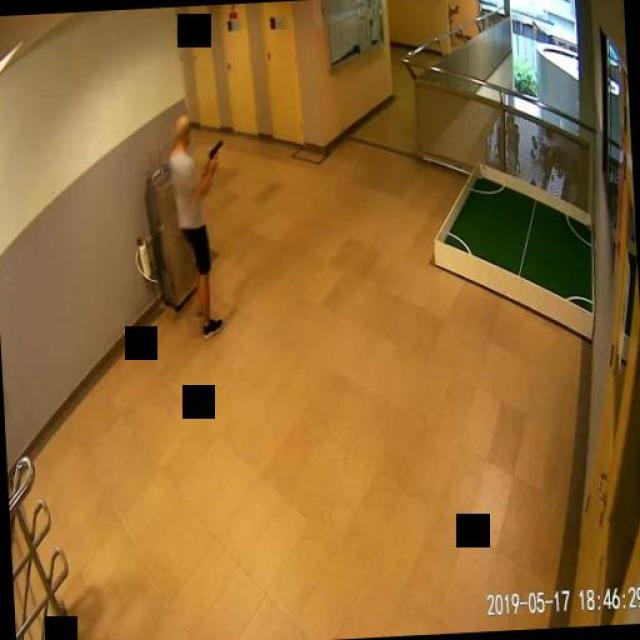gun: (208, 138, 222, 168)
